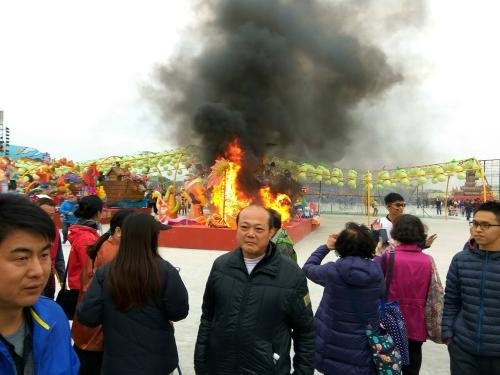fire: (207, 142, 246, 223), (261, 186, 291, 221)
